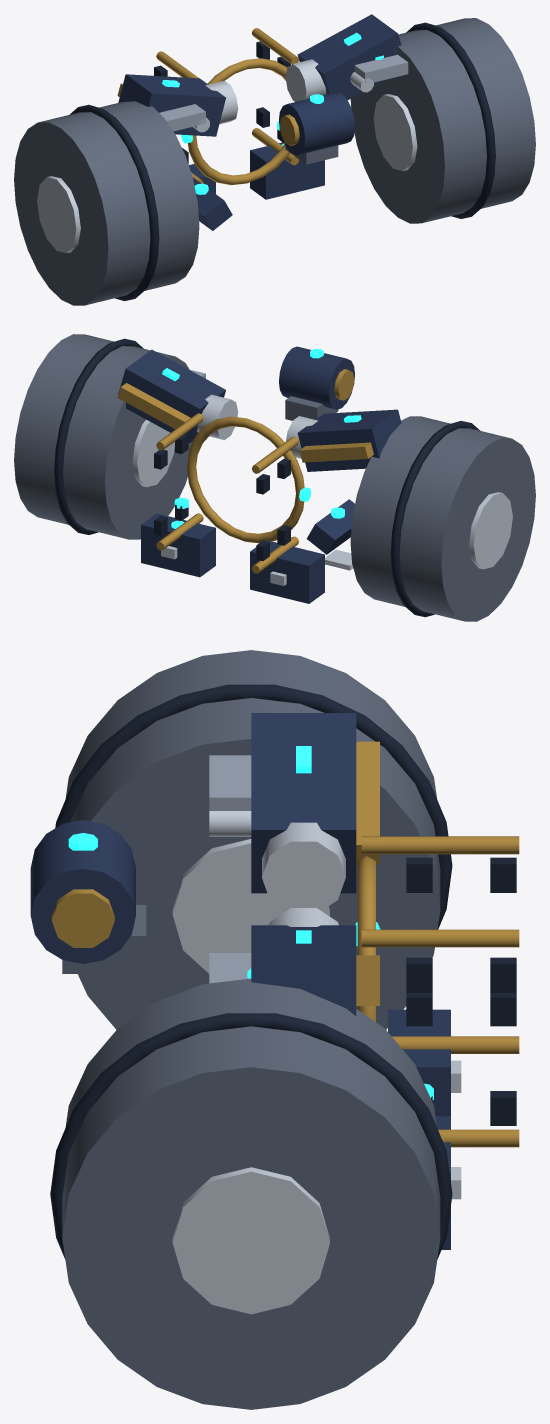
The model's file is tower_skywatch_rate_s9.glb.
3 renders of one model, top to bottom at view 1: azimuth 30°, elevation 25°; view 2: azimuth 150°, elevation 25°; view 3: azimuth 270°, elevation 25°, orthographic. The views are drawn at different scales.
Visible parts, largest first — view 1: skywatch_big_drum_r, skywatch_big_drum_l, skywatch_feed_cover_l, skywatch_feed_cover_r, skywatch_feed_motor, skywatch_big_drum_cap_r, skywatch_big_drum_cap_l, skywatch_belt_box-0.24, skywatch_big_drum_rib_r, skywatch_big_drum_rib_l, skywatch_cool_manifold, skywatch_feed_sprocket_l (+9 smaller); view 2: skywatch_big_drum_r, skywatch_big_drum_l, skywatch_feed_cover_l, skywatch_feed_cover_r, skywatch_cool_manifold, skywatch_feed_motor, skywatch_belt_box0.24, skywatch_belt_box-0.24, skywatch_big_drum_cap_r, skywatch_big_drum_rib_r, skywatch_big_drum_rib_l, skywatch_big_drum_cap_l (+12 smaller); view 3: skywatch_big_drum_l, skywatch_big_drum_r, skywatch_big_drum_cap_l, skywatch_feed_cover_r, skywatch_feed_motor, skywatch_big_drum_rib_l, skywatch_big_drum_cap_r, skywatch_big_drum_rib_r, skywatch_feed_cover_l, skywatch_feed_sprocket_r, skywatch_belt_box0.24, skywatch_cool_line3 (+19 smaller).
Boxes of the visible parts, x1,y1,x2,y2 form: skywatch_big_drum_r: (14,101,199,305); skywatch_big_drum_l: (350,18,535,223); skywatch_feed_cover_l: (297,14,401,99); skywatch_feed_cover_r: (118,74,225,136); skywatch_feed_motor: (279,92,354,155); skywatch_big_drum_cap_r: (37,176,80,253); skywatch_big_drum_cap_l: (373,94,417,170); skywatch_belt_box-0.24: (250,142,324,199); skywatch_big_drum_rib_r: (70,104,159,301); skywatch_big_drum_rib_l: (406,22,495,218); skywatch_cool_manifold: (188,58,289,185); skywatch_feed_sprocket_l: (285,59,326,101); skywatch_big_drum_r: (350,416,535,621); skywatch_big_drum_l: (14,334,192,539); skywatch_feed_cover_l: (118,349,225,442); skywatch_feed_cover_r: (297,409,401,471); skywatch_cool_manifold: (187,416,304,543); skywatch_feed_motor: (279,346,354,409); skywatch_belt_box0.24: (250,540,324,603); skywatch_belt_box-0.24: (141,513,215,577); skywatch_big_drum_cap_r: (469,492,512,569); skywatch_big_drum_rib_r: (390,421,480,617); skywatch_big_drum_rib_l: (54,338,143,534); skywatch_big_drum_cap_l: (132,419,174,487); skywatch_big_drum_l: (62,978,440,1409); skywatch_big_drum_r: (65,650,440,1029); skywatch_big_drum_cap_l: (172,1167,329,1314); skywatch_feed_cover_r: (251,713,356,893); skywatch_feed_motor: (30,820,135,963); skywatch_big_drum_rib_l: (50,1013,452,1259); skywatch_big_drum_cap_r: (172,839,329,973); skywatch_big_drum_rib_r: (55,684,452,929); skywatch_feed_cover_l: (251,925,356,1015); skywatch_feed_sprocket_r: (262,822,345,910); skywatch_belt_box0.24: (388,1009,450,1116); skywatch_cool_line3: (361,836,519,854).
Size of the model in its own units: 1.92 by 0.794 by 0.93.
